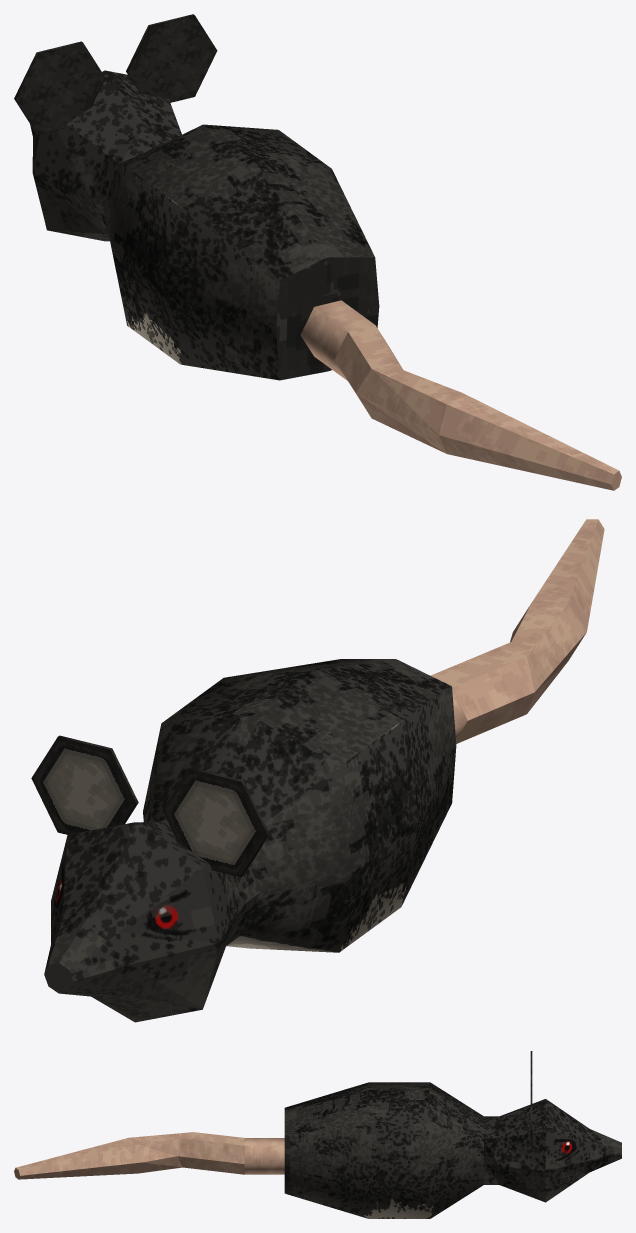
File: Rat.FBX
The picture shows the model from 3 angles, top to bottom: view 1: azimuth 30°, elevation 25°; view 2: azimuth 150°, elevation 25°; view 3: azimuth 270°, elevation 25°; orthographic projection. The views are drawn at different scales.
Visible parts, largest first — view 1: Cylinder001; view 2: Cylinder001; view 3: Cylinder001.
Part boxes in pixels (box(x1,y1,x2,y2)): Cylinder001: box(14, 14, 621, 490); Cylinder001: box(31, 519, 604, 1022); Cylinder001: box(14, 1051, 621, 1218).
Size of the model in its own units: 3.17 by 3.38 by 14.12.
Materials: 1 (1 with a texture image).
